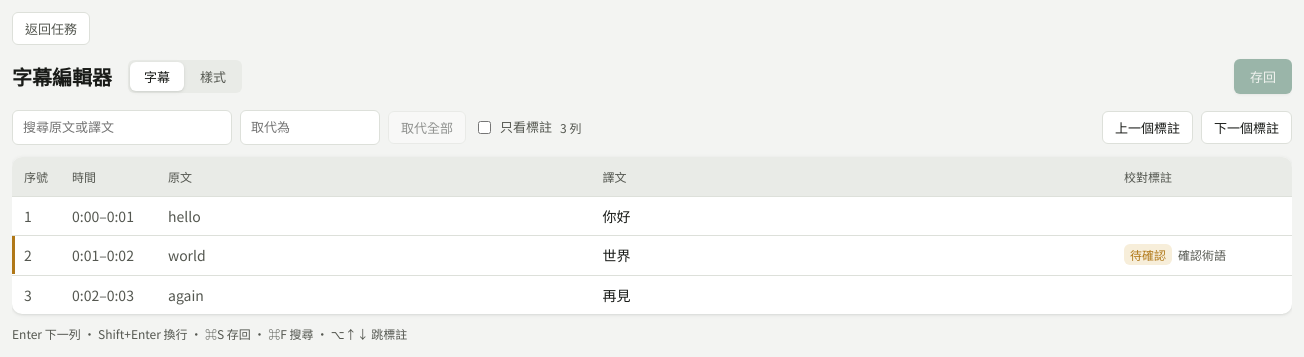
Test: SubtitleEditorView › search filters rows by source and target
The width and height of the screenshot is (1304, 357).
Expected: the text "你好" is shown, [602,206,630,226]
Type "world" into the search field labelled "搜尋" at [122, 127], box [12,110,232,145]
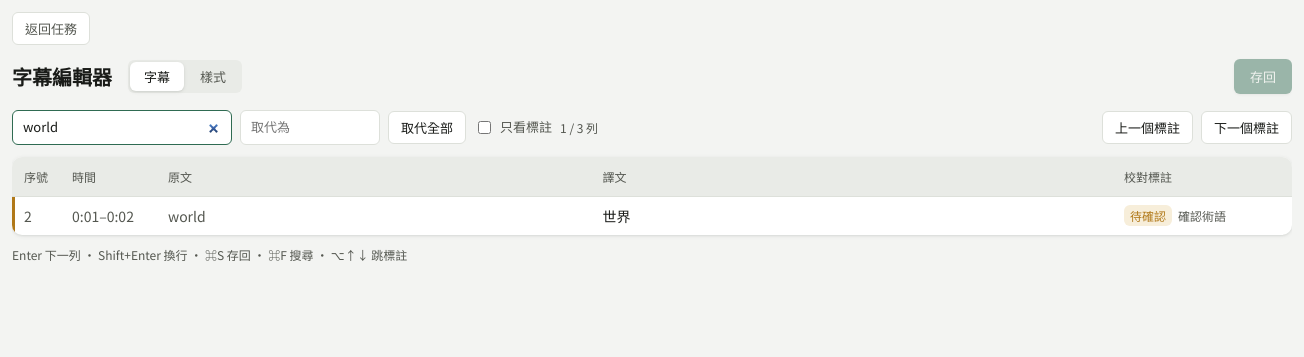
Expected: the text "世界" is shown, [602,206,630,226]
Expected: the text "你好" is gone
